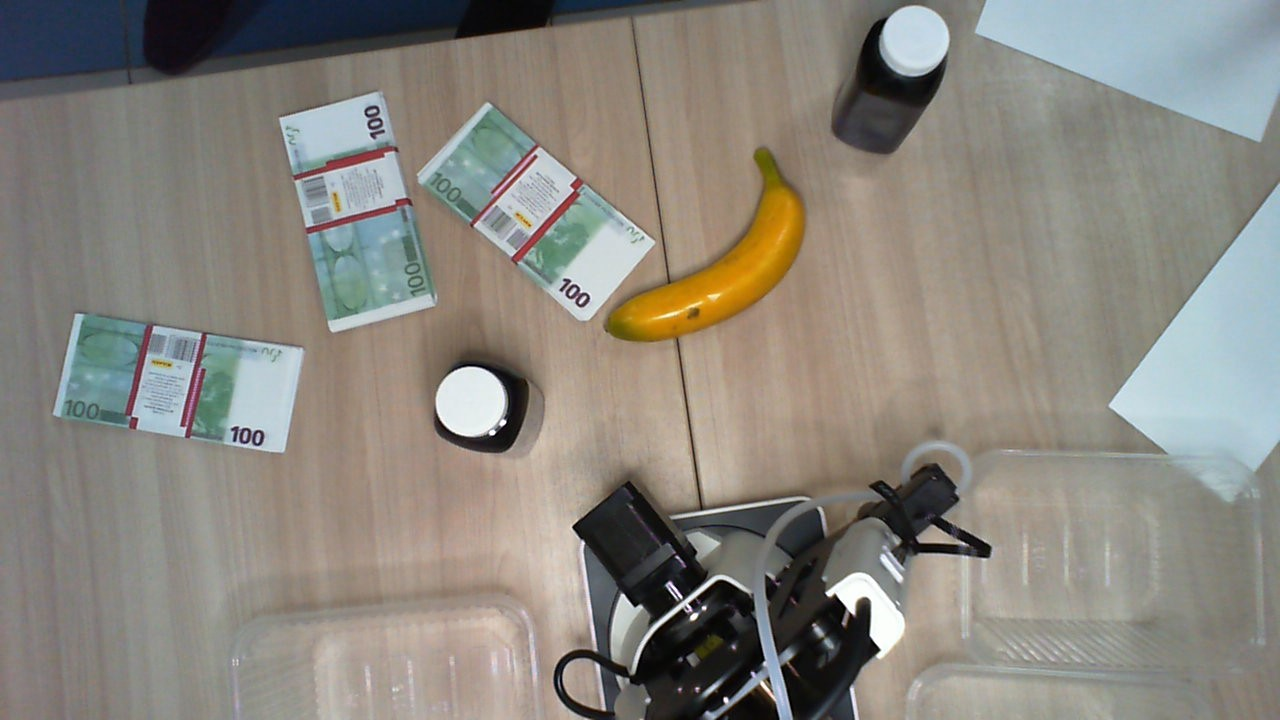banana: (603, 143, 808, 345)
bottle: (860, 2, 956, 105), (433, 361, 530, 454)
convert: (1113, 184, 1280, 505), (973, 1, 1280, 140)
money: (418, 101, 660, 326), (277, 90, 435, 333), (50, 310, 305, 455)
